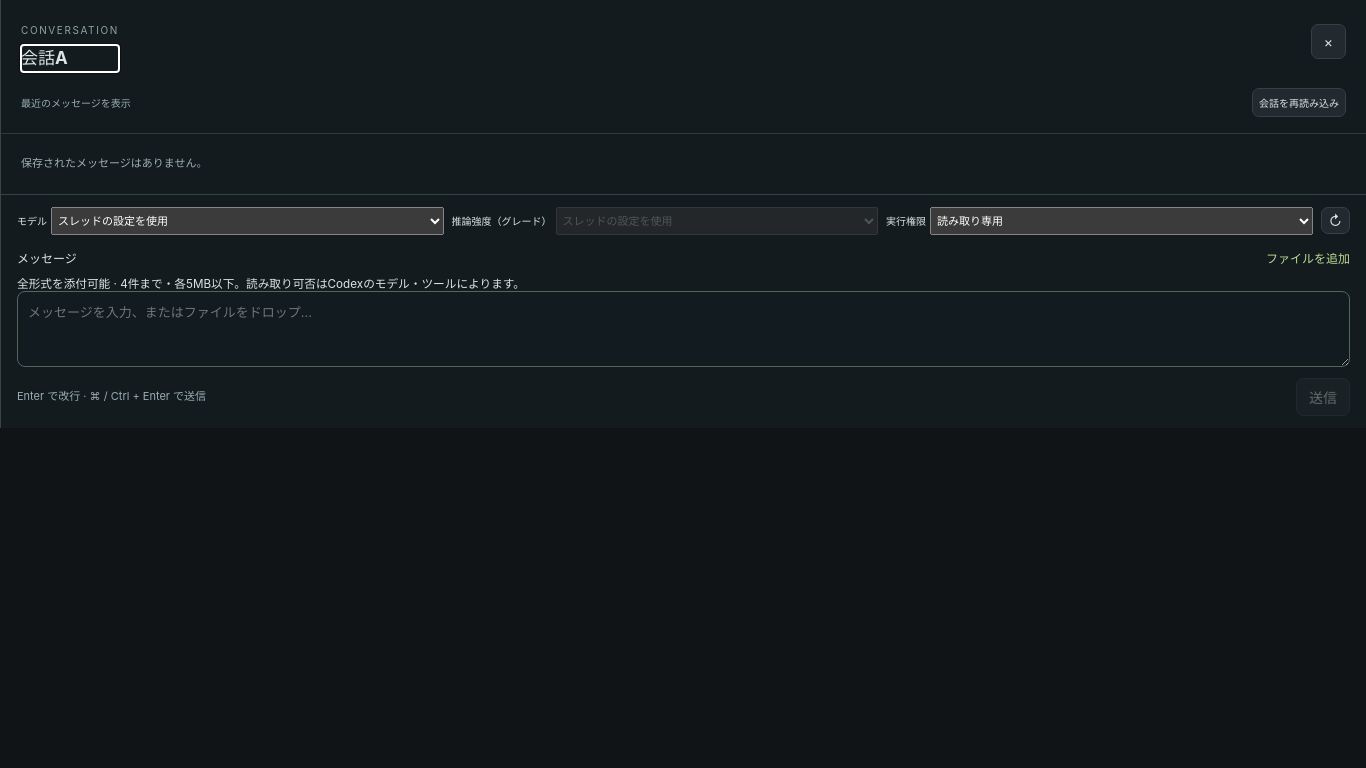
it: sends once, streams text, and loads persisted history
Check: the text "保存されたメッセージはありません。" is shown, box [21, 156, 208, 170]
In the text box labelled "メッセージ": (684, 329) [17, 291, 1350, 367], type "質問です"
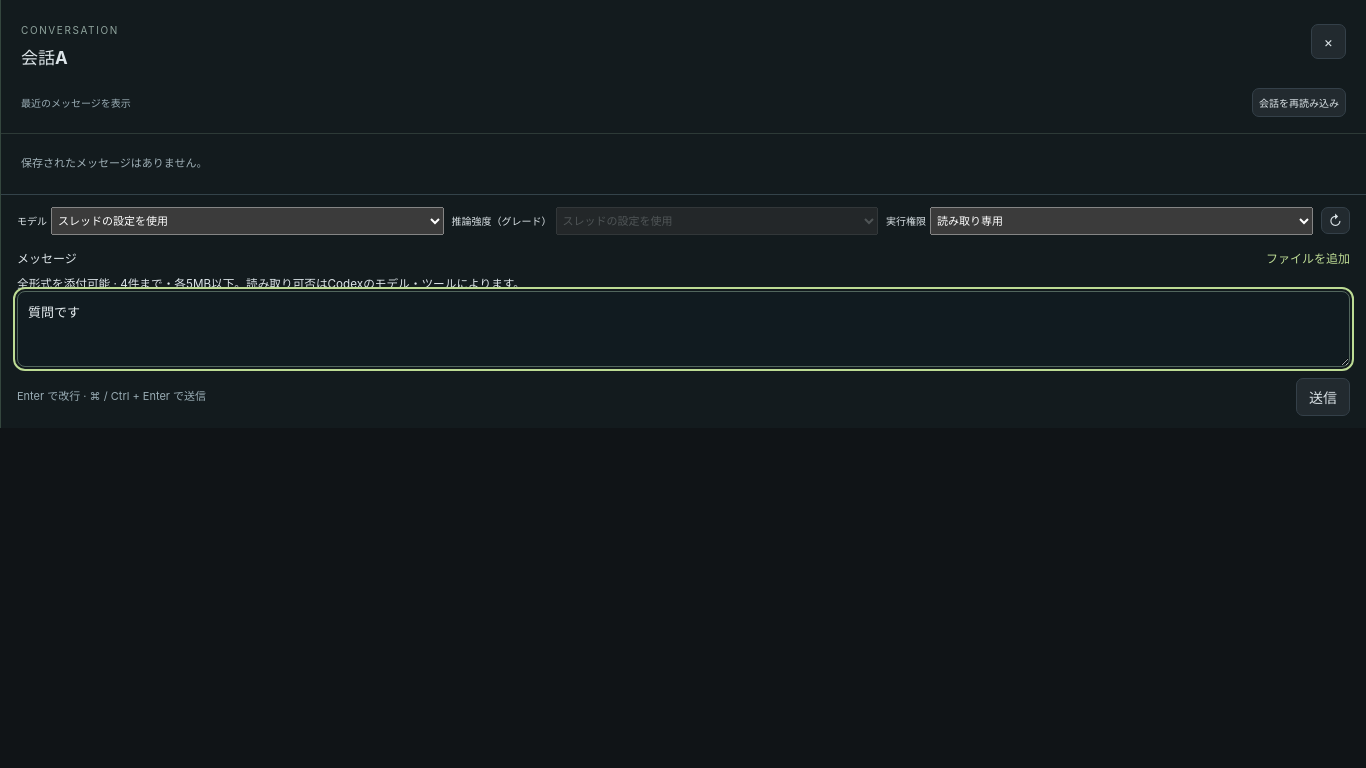
Click the button "送信": (1323, 397) [1296, 378, 1350, 416]
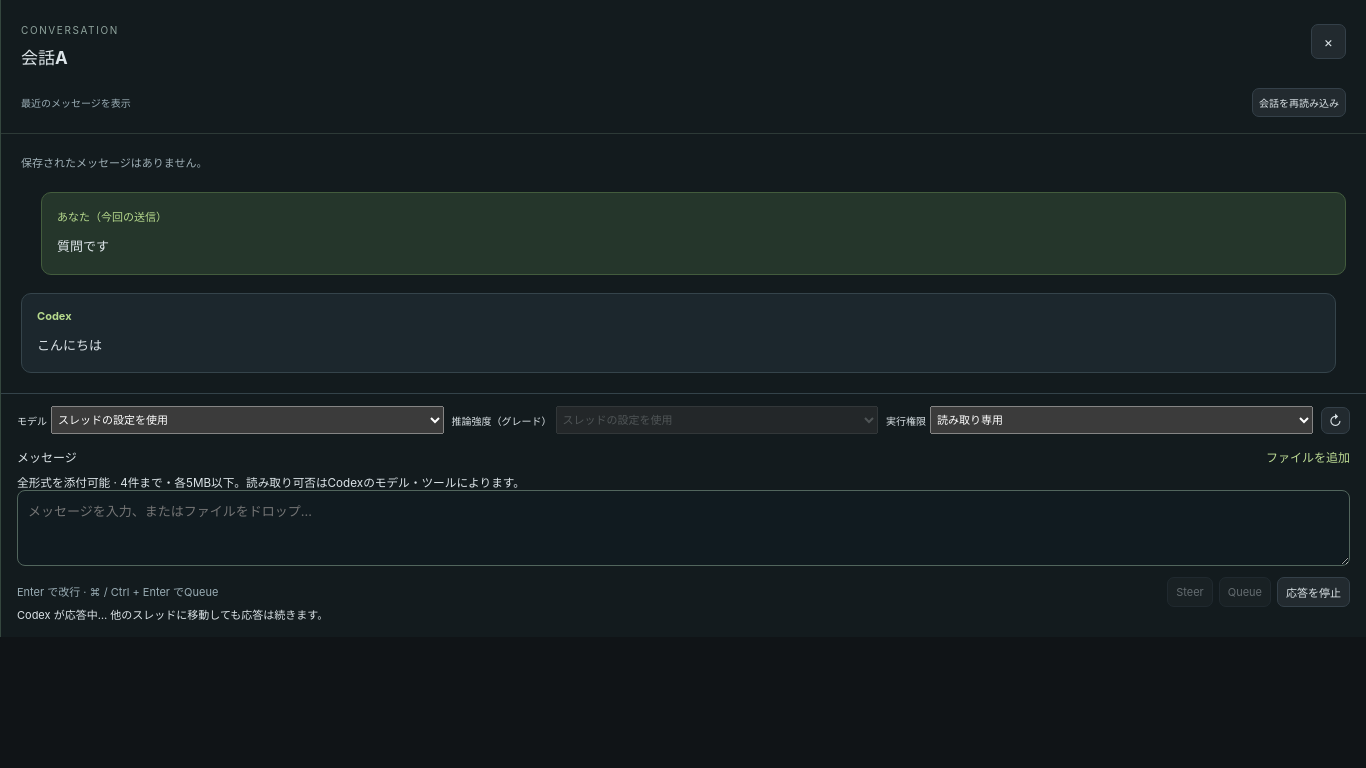
Check: the button named "チャット欄を閉じる" is enabled, box [1311, 24, 1346, 59]
Check: the text "こんにちは" is shown, box [37, 337, 102, 353]
Press Enter in the text box labelled "メッセージ", box [17, 490, 1350, 566]
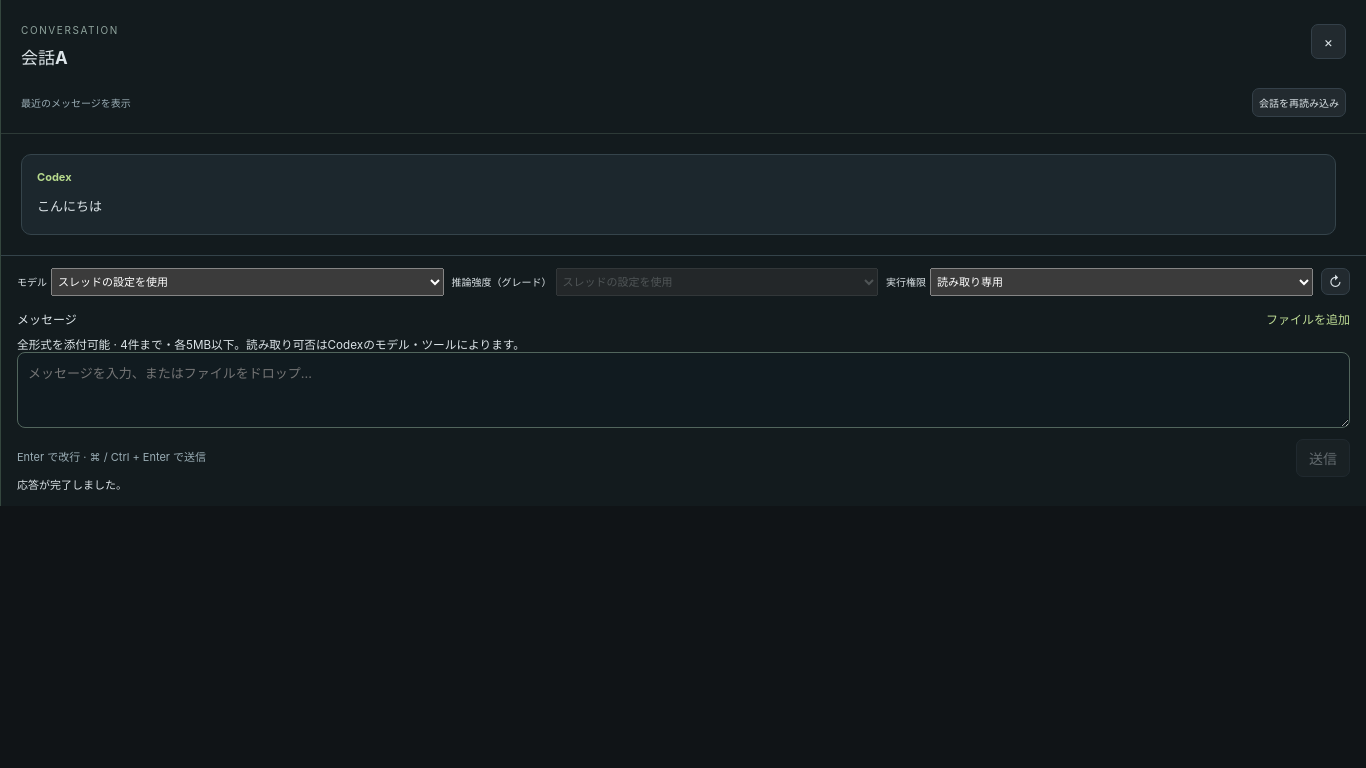
Check: the text box labelled "メッセージ" is empty, box [17, 352, 1350, 428]
Check: the text "こんにちは" is shown once, box [37, 198, 102, 214]
